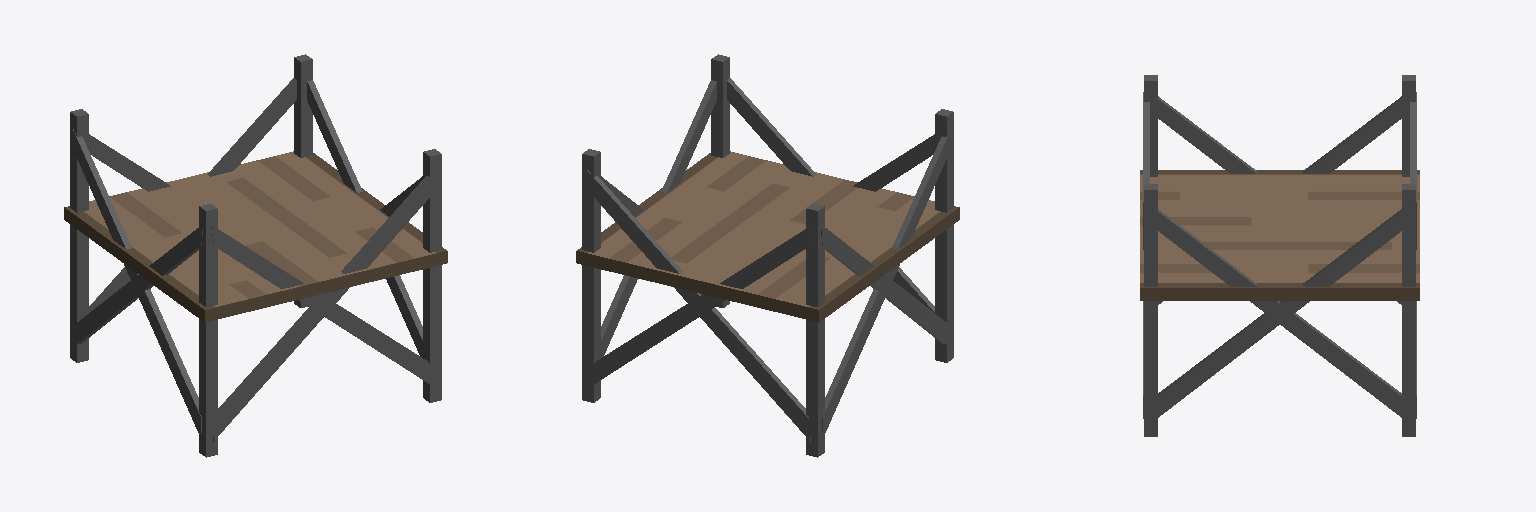
3 renders of one model, left to right at view 1: azimuth 30°, elevation 25°; view 2: azimuth 150°, elevation 25°; view 3: azimuth 270°, elevation 25°, orthographic.
Parts seen in each view (by area): view 1: Cube.001_Cube.002, WarehouseFloor_Cube.001; view 2: Cube.001_Cube.002, WarehouseFloor_Cube.001; view 3: WarehouseFloor_Cube.001, Cube.001_Cube.002.
Part boxes in pixels (x1,y1,x2,y2): Cube.001_Cube.002: (70,54,441,457); WarehouseFloor_Cube.001: (64,151,447,322); Cube.001_Cube.002: (582,54,953,457); WarehouseFloor_Cube.001: (576,151,959,322); WarehouseFloor_Cube.001: (1140,170,1419,300); Cube.001_Cube.002: (1143,75,1416,436).
Size of the model in its own units: 2 by 1.94 by 2.
1 materials, 1 textured.